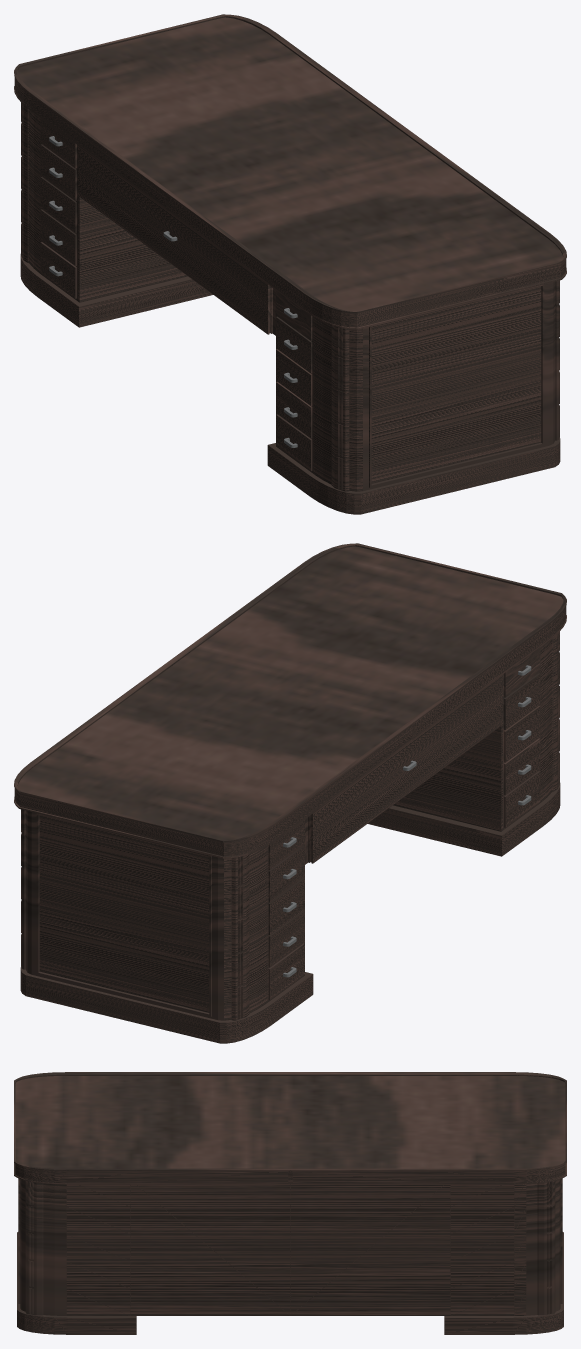
The model's file is mesa.fbx.
The picture shows the model from 3 angles, top to bottom: view 1: azimuth 30°, elevation 25°; view 2: azimuth 150°, elevation 25°; view 3: azimuth 270°, elevation 25°; orthographic projection. The views are drawn at different scales.
Visible parts, largest first — view 1: Cube, Cube.002; view 2: Cube, Cube.002; view 3: Cube.
Boxes of the visible parts, <box> form: Cube: <box>14,14,566,514</box>; Cube.002: <box>49,136,297,447</box>; Cube: <box>14,543,566,1043</box>; Cube.002: <box>283,665,531,977</box>; Cube: <box>14,1072,566,1334</box>.
Size of the model in its own units: 816 by 649 by 1947.
